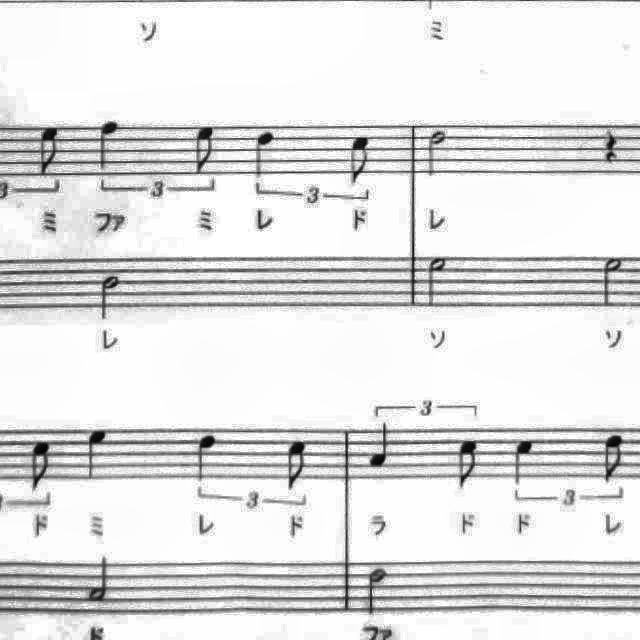Eighth-note: (24, 434, 61, 498), (278, 434, 316, 496), (451, 434, 489, 496), (342, 131, 378, 191), (596, 429, 632, 487), (32, 120, 66, 180), (189, 119, 223, 177)
Half-note: (593, 250, 631, 314), (360, 561, 398, 621), (81, 550, 117, 608), (420, 250, 452, 314), (94, 268, 128, 324), (421, 123, 452, 181)
Quarter-note: (189, 426, 227, 488), (80, 422, 116, 486), (506, 433, 542, 493), (249, 122, 283, 182), (92, 114, 125, 174), (364, 418, 398, 474)
Quarter-rest: (597, 122, 627, 168)
